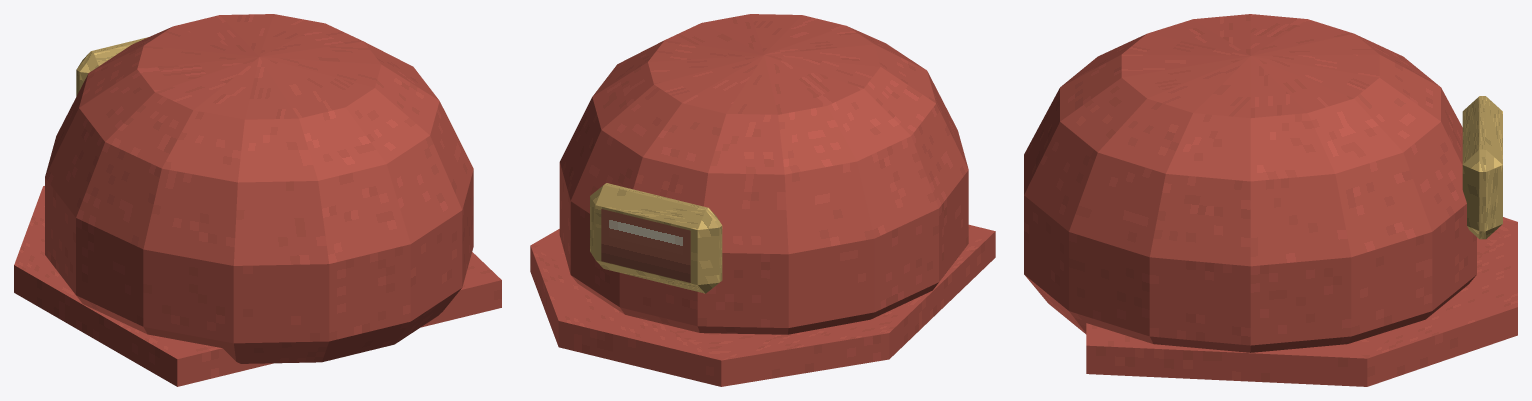
File: firehelmet.glb
3 renders of one model, left to right at view 1: azimuth 30°, elevation 25°; view 2: azimuth 150°, elevation 25°; view 3: azimuth 270°, elevation 25°, orthographic. The views are drawn at different scales.
Visible parts, largest first — view 1: block_helmet shell, block_helmet rim, block_front shield; view 2: block_helmet shell, block_helmet rim, block_front shield, block_shield insignia; view 3: block_helmet shell, block_helmet rim, block_front shield.
Part boxes in pixels (<box>): block_helmet shell: <box>45,14,473,363</box>; block_helmet rim: <box>14,186,501,386</box>; block_front shield: <box>76,37,147,96</box>; block_helmet shell: <box>559,14,968,334</box>; block_helmet rim: <box>530,224,995,386</box>; block_front shield: <box>590,183,722,293</box>; block_shield insignia: <box>601,209,690,282</box>; block_helmet shell: <box>1024,14,1476,352</box>; block_helmet rim: <box>1086,217,1517,386</box>; block_front shield: <box>1462,96,1502,239</box>.
Bounding box in the file's own units: 0.2701 × 0.1588 × 0.3.
1 material, 1 textured.
